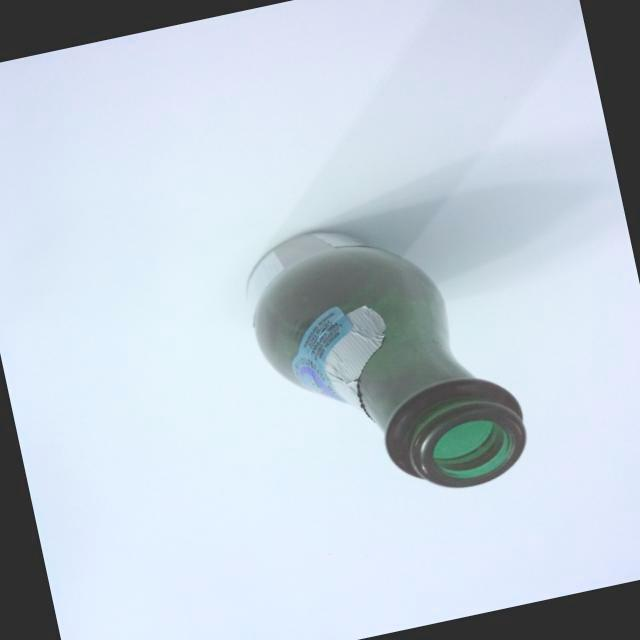glass: (217, 184, 548, 535)
